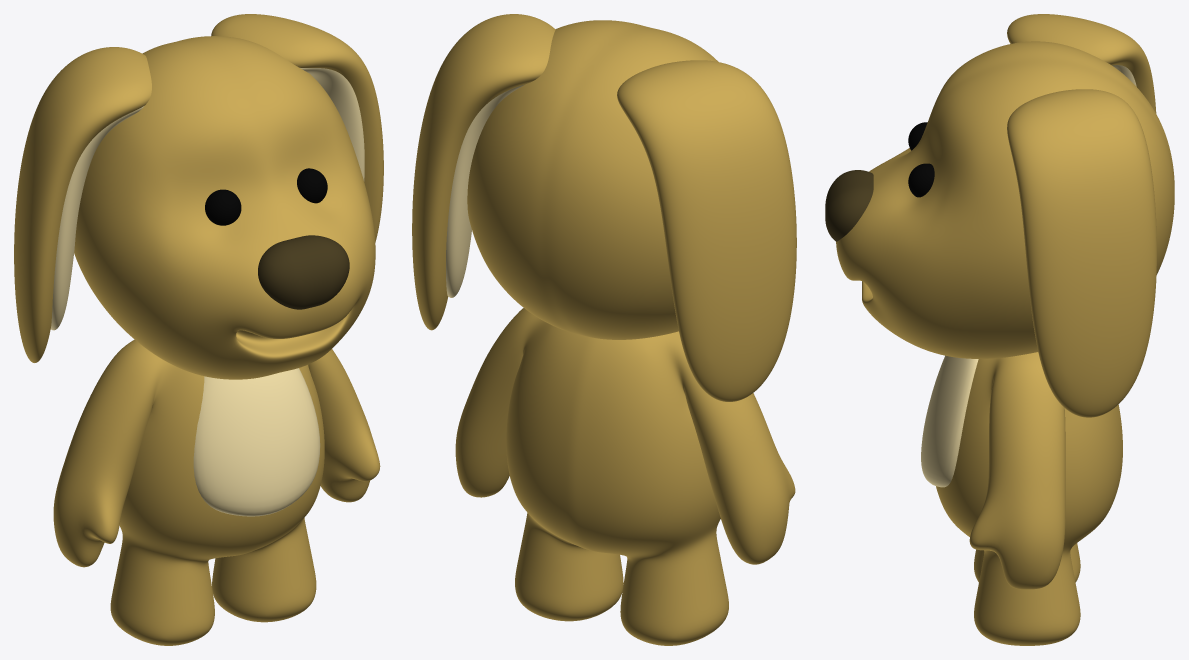
The model's file is Dog_3d.glb.
3 views of the same model, side by side, from view 1: azimuth 30°, elevation 25°; view 2: azimuth 150°, elevation 25°; view 3: azimuth 270°, elevation 25° (orthographic). The views are drawn at different scales.
Parts seen in each view (by area): view 1: Cube.147, Cube.151, Cube.149, Cube.152, Cube.148, Cube.150, Sphere.029; view 2: Cube.151, Cube.149, Cube.147, Cube.150; view 3: Cube.147, Cube.149, Cube.151, Cube.152, Cube.148, Sphere.029.
Boxes of the visible parts, <box> form: Cube.147: <box>74,36,375,379</box>; Cube.151: <box>53,339,380,645</box>; Cube.149: <box>14,14,383,362</box>; Cube.152: <box>193,368,320,516</box>; Cube.148: <box>258,235,349,309</box>; Cube.150: <box>50,68,364,330</box>; Sphere.029: <box>205,168,327,225</box>; Cube.151: <box>455,308,795,645</box>; Cube.149: <box>412,14,796,401</box>; Cube.147: <box>467,20,718,339</box>; Cube.150: <box>446,84,524,297</box>; Cube.147: <box>836,41,1174,358</box>; Cube.149: <box>1007,14,1156,417</box>; Cube.151: <box>936,352,1122,645</box>; Cube.152: <box>921,355,978,487</box>; Cube.148: <box>825,170,873,241</box>; Sphere.029: <box>908,122,934,197</box>.
Bounding box in the file's own units: 3.82 × 5.88 × 3.34.
